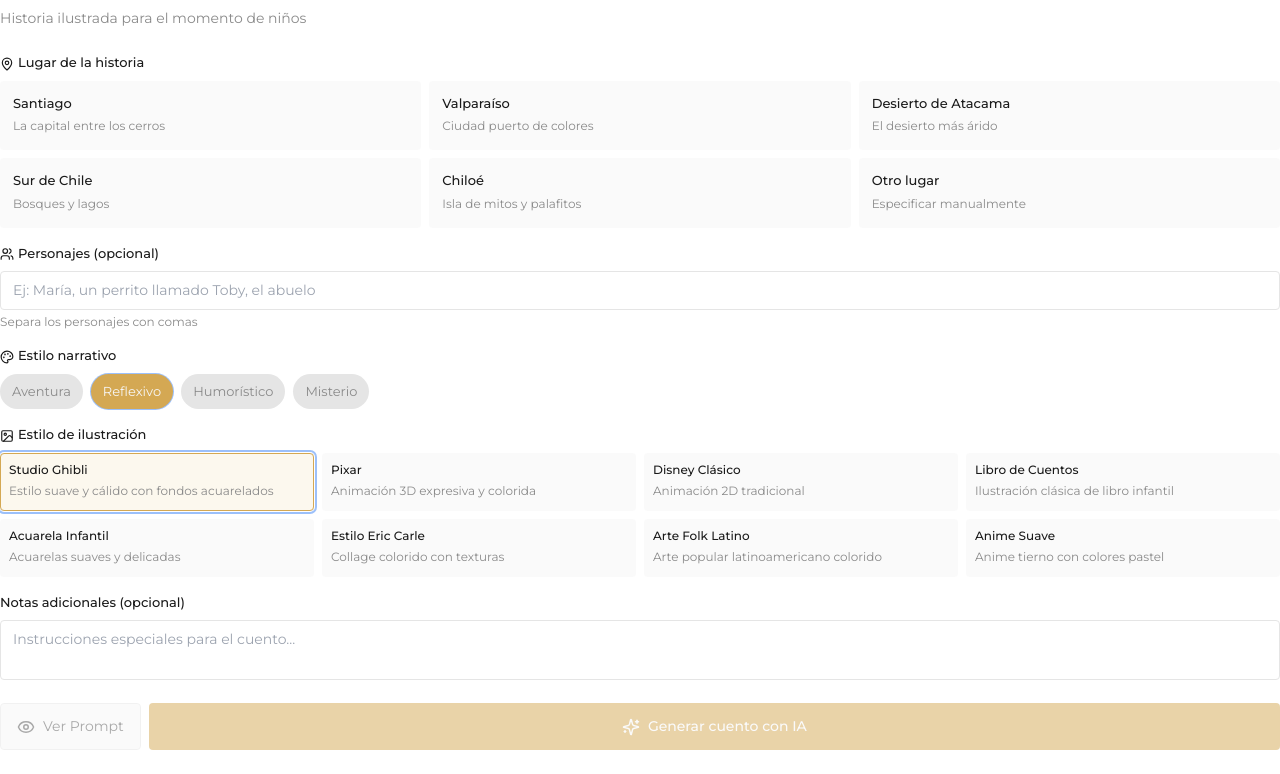
T-U.4 — cada intento COMPLETO reemplaza el conjunto entero › aviso → error de RED (sin `context`) limpia el aviso y deja el error visible
Click the button "Santiago La capital entre los cerros" at (42, 102), box [0, 80, 421, 150]
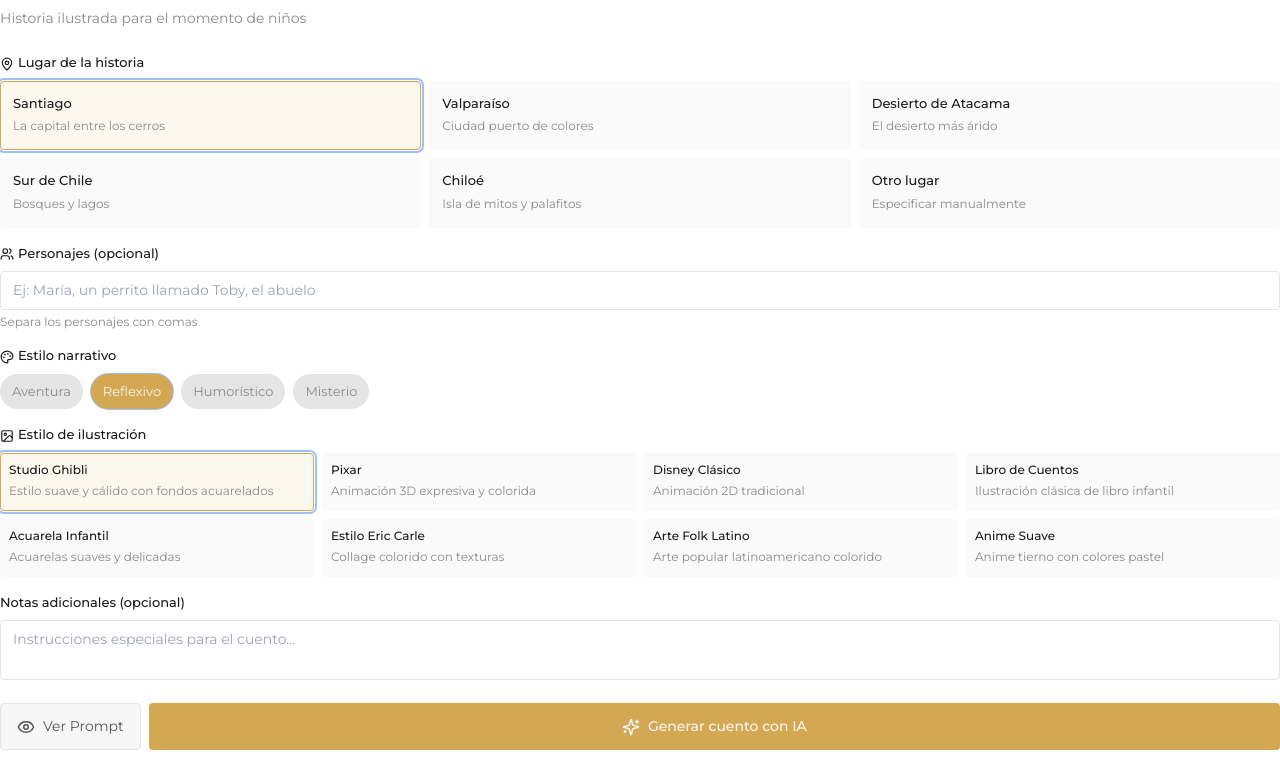
Click the button "Generar cuento con IA" at (714, 726), box [149, 703, 1279, 750]
(page scrolled)
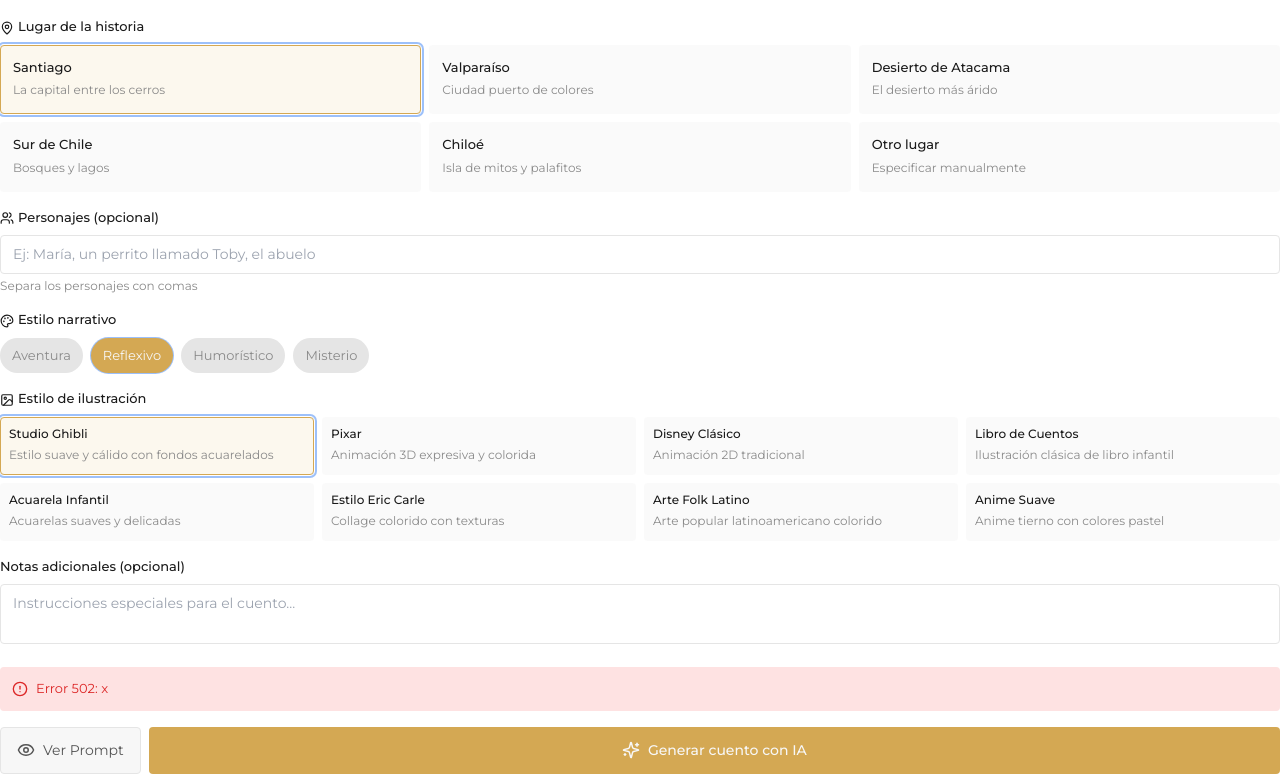
Click the button "Generar cuento con IA" at (714, 750), box [149, 726, 1279, 773]
(page scrolled)
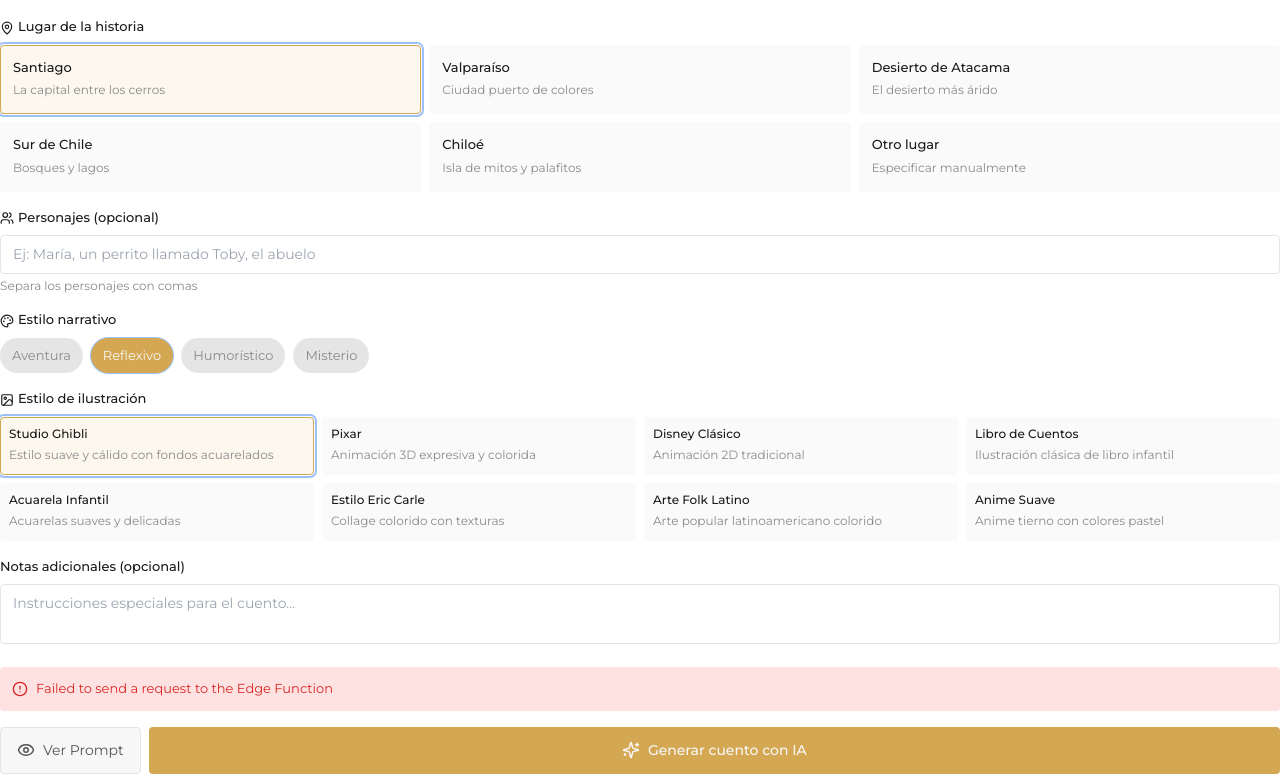
Result: the text "Failed to send a request to the Edge Function" is shown at [0, 667, 1279, 710]
